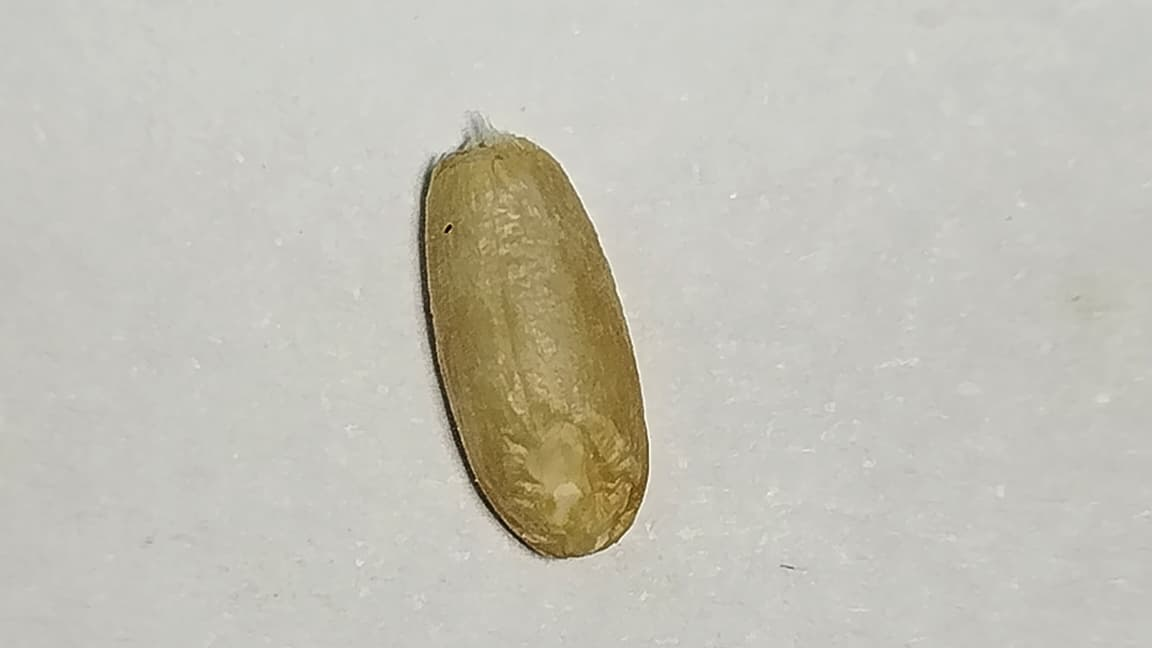healthy: (421, 138, 649, 557)
